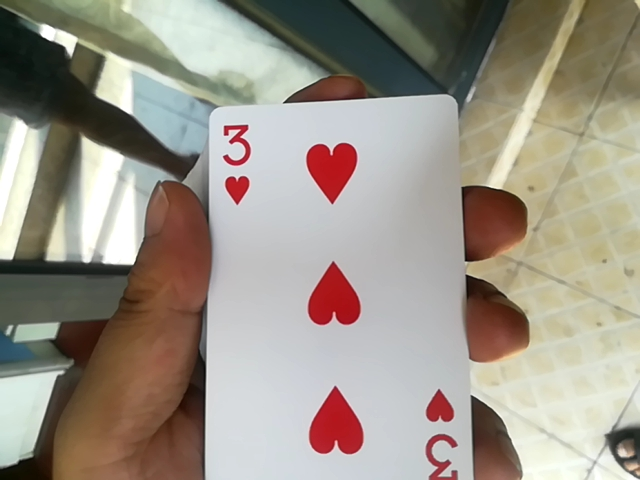hx 3: (188, 88, 462, 473)
